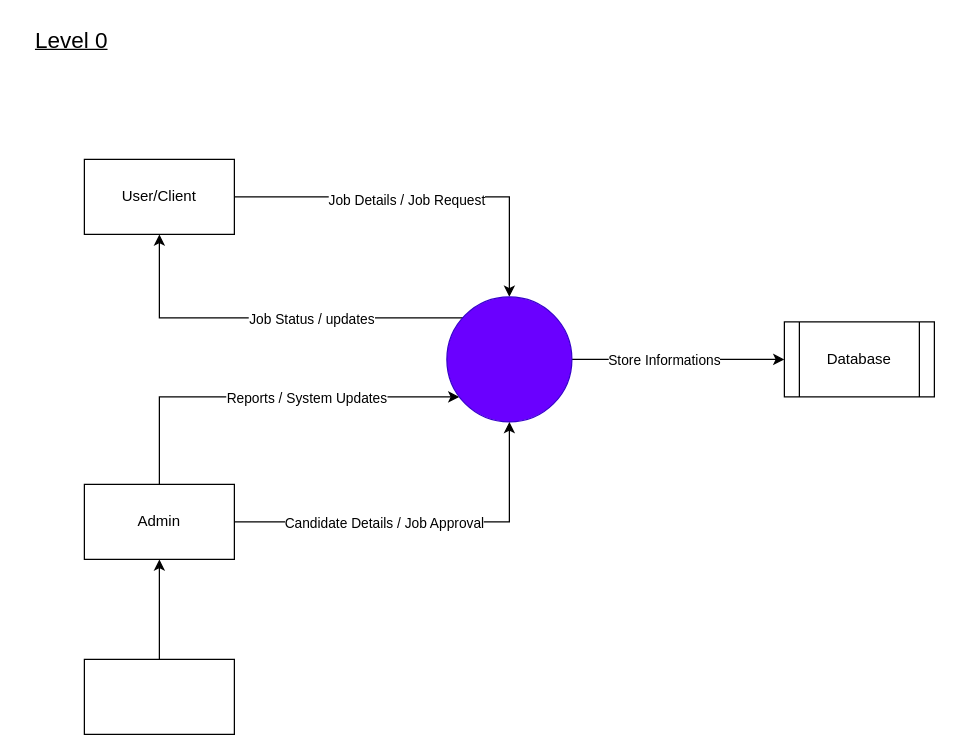
The diagram is 956 pixels wide and 756 high, and some of its shapes have lost their labels. Here are the shapes that lost their labels. From the top down, the box of each, then its label:
(446, 296, 572, 422): Epm Staffing System
(83, 658, 234, 734): Candidate
